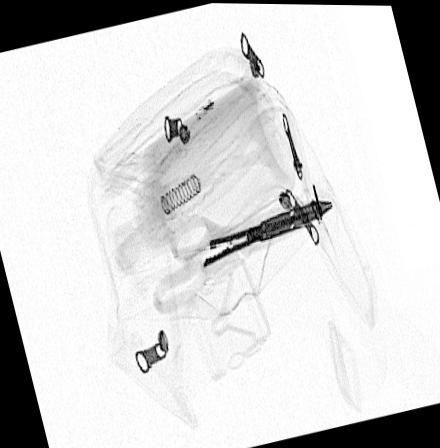Scissors: (149, 193, 336, 316)
